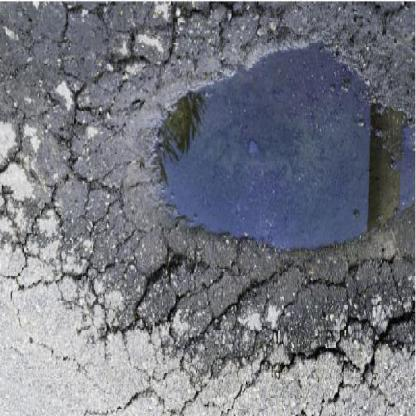pothole: (114, 41, 416, 347)
